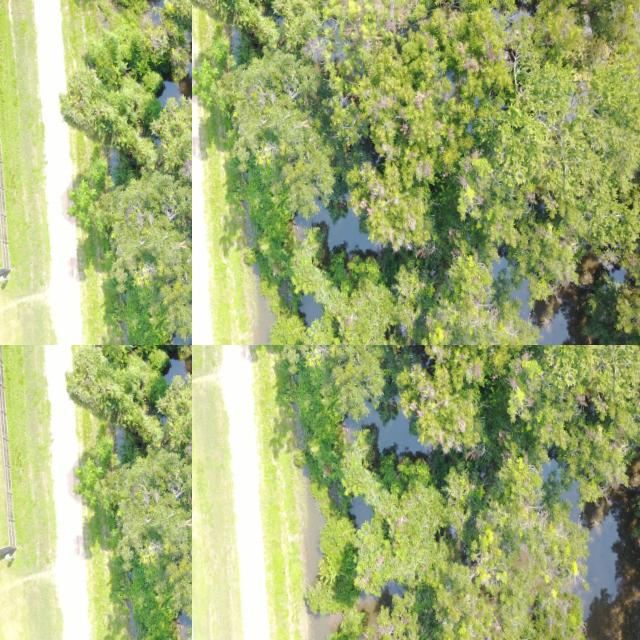fire: (0, 345, 132, 640), (252, 117, 382, 345), (585, 489, 640, 640), (276, 0, 348, 80), (276, 0, 348, 54), (364, 407, 427, 453), (562, 481, 582, 523)
